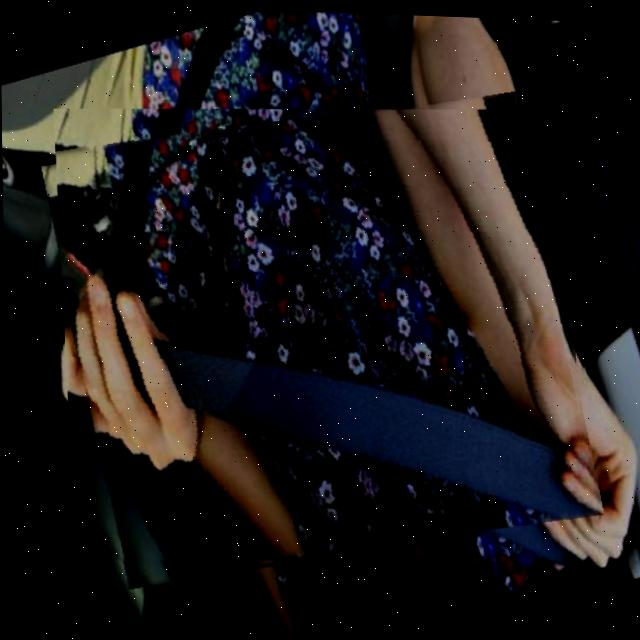seatbelt: (53, 89, 590, 585)
